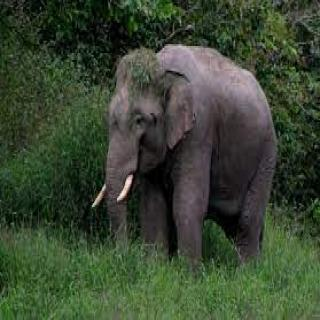Elephant: (88, 39, 281, 279)
